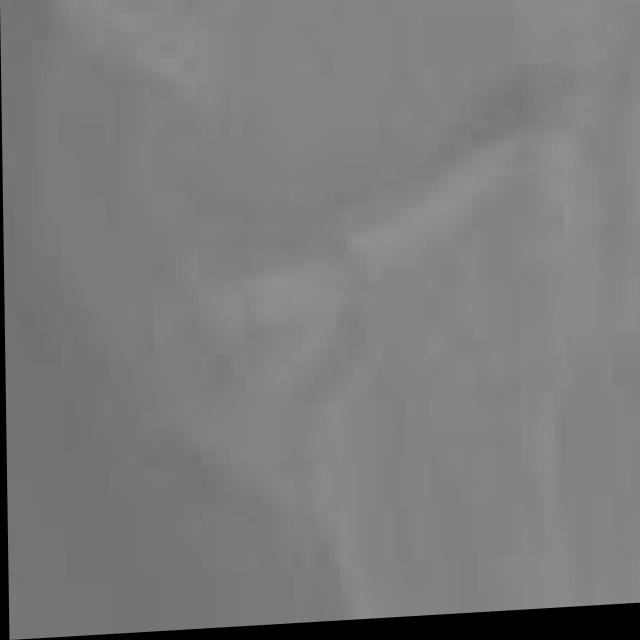fracture: (4, 0, 640, 629)
